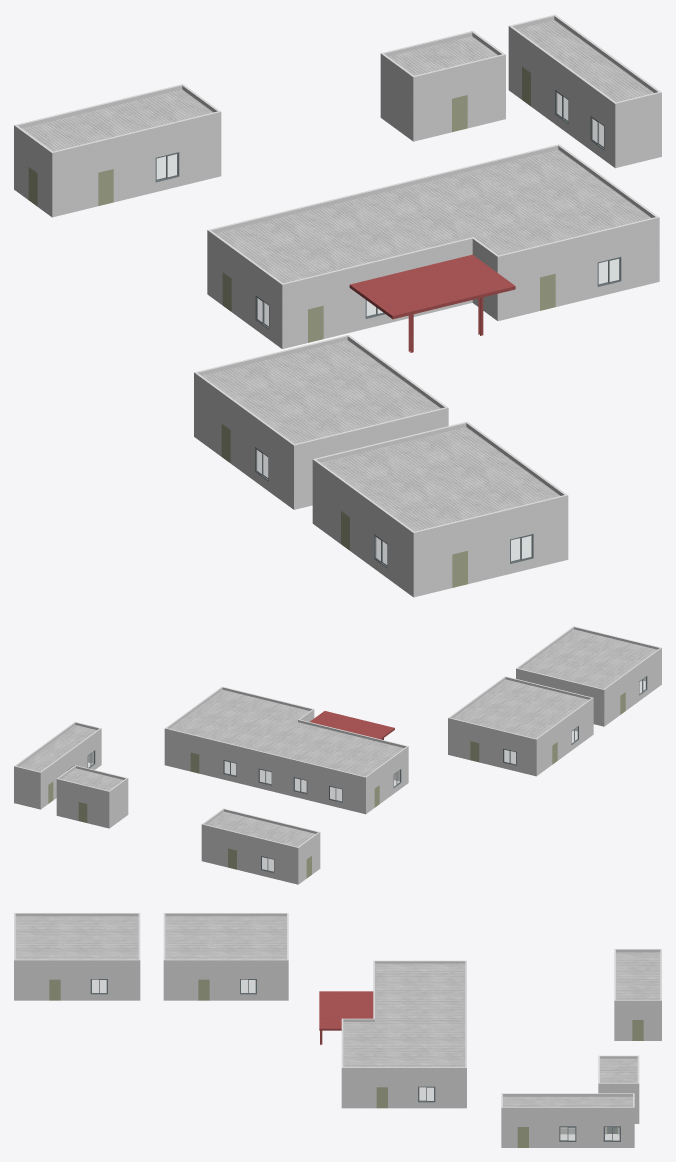
The model's file is Plan(REF)_levels(1)_window(W Sliding2 23_4)_wall(WAFRA WALL)_quoin(N)_cornice(N).fbx.
3 views of the same model, one above another, from view 1: azimuth 30°, elevation 25°; view 2: azimuth 150°, elevation 25°; view 3: azimuth 270°, elevation 25° (orthographic). The views are drawn at different scales.
Parts seen in each view (by area): view 1: WAFRA Stucco - White Rough 23, WAFRA Roof - Corrugated Sheet Matte 23, WAFRA Roof - Standing Seam Red Coat 23, Color - Beige, Glass - Clear, Metal - Finish - Aluminum; view 2: WAFRA Stucco - White Rough 23, WAFRA Roof - Corrugated Sheet Matte 23, Color - Beige, WAFRA Roof - Standing Seam Red Coat 23, Glass - Clear, Metal - Finish - Aluminum; view 3: WAFRA Roof - Corrugated Sheet Matte 23, WAFRA Stucco - White Rough 23, WAFRA Roof - Standing Seam Red Coat 23, Color - Beige, Glass - Clear, Metal - Finish - Aluminum.
Boxes of the visible parts, x1,y1,x2,y2 form: WAFRA Stucco - White Rough 23: (14, 14, 661, 597); WAFRA Roof - Corrugated Sheet Matte 23: (22, 20, 653, 531); WAFRA Roof - Standing Seam Red Coat 23: (349, 254, 515, 352); Color - Beige: (28, 67, 555, 587); Glass - Clear: (157, 93, 618, 564); Metal - Finish - Aluminum: (155, 90, 621, 568); WAFRA Stucco - White Rough 23: (14, 626, 661, 884); WAFRA Roof - Corrugated Sheet Matte 23: (19, 629, 656, 846); Color - Beige: (48, 692, 625, 878); WAFRA Roof - Standing Seam Red Coat 23: (310, 711, 394, 739); Glass - Clear: (88, 677, 645, 871); Metal - Finish - Aluminum: (67, 676, 647, 872); WAFRA Roof - Corrugated Sheet Matte 23: (15, 916, 660, 1106); WAFRA Stucco - White Rough 23: (14, 913, 661, 1147); WAFRA Roof - Standing Seam Red Coat 23: (319, 991, 373, 1044); Color - Beige: (49, 979, 643, 1147); Glass - Clear: (92, 980, 619, 1140); Metal - Finish - Aluminum: (90, 979, 620, 1141).
Bounding box in the file's own units: 4148 × 5833 × 400.
Materials: 11 (4 with a texture image).
